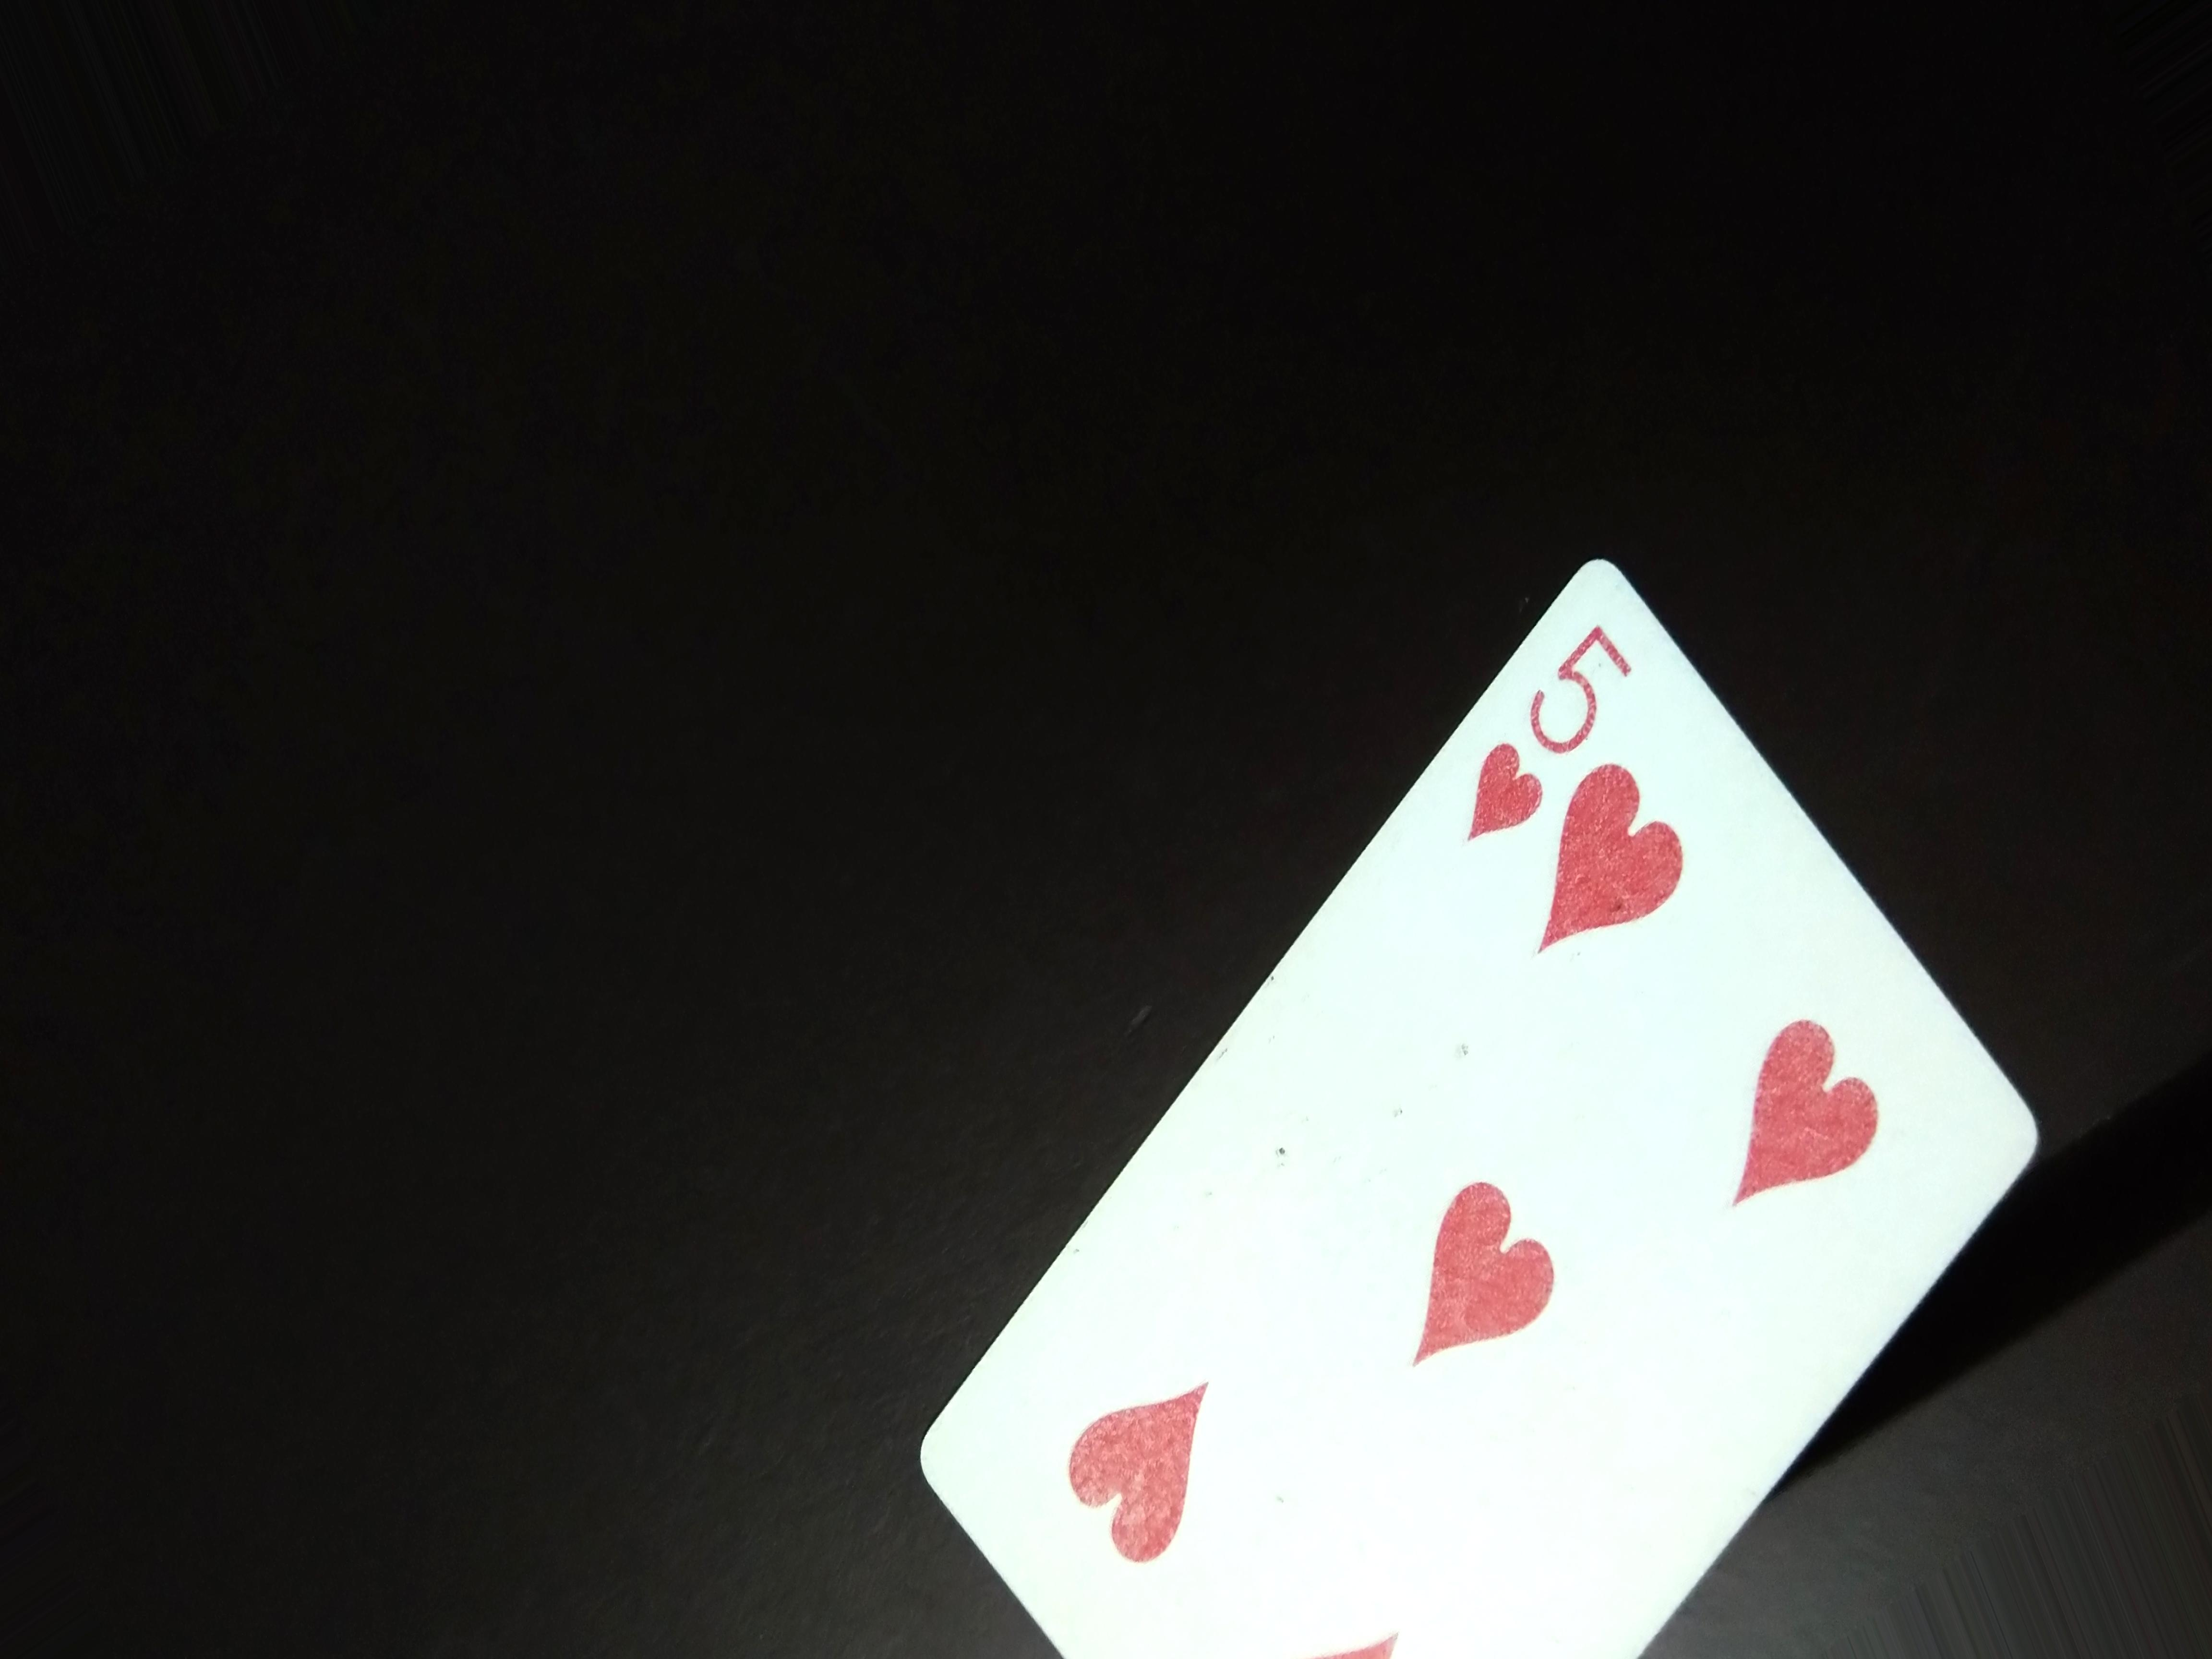5H: (1454, 612, 1649, 864)
